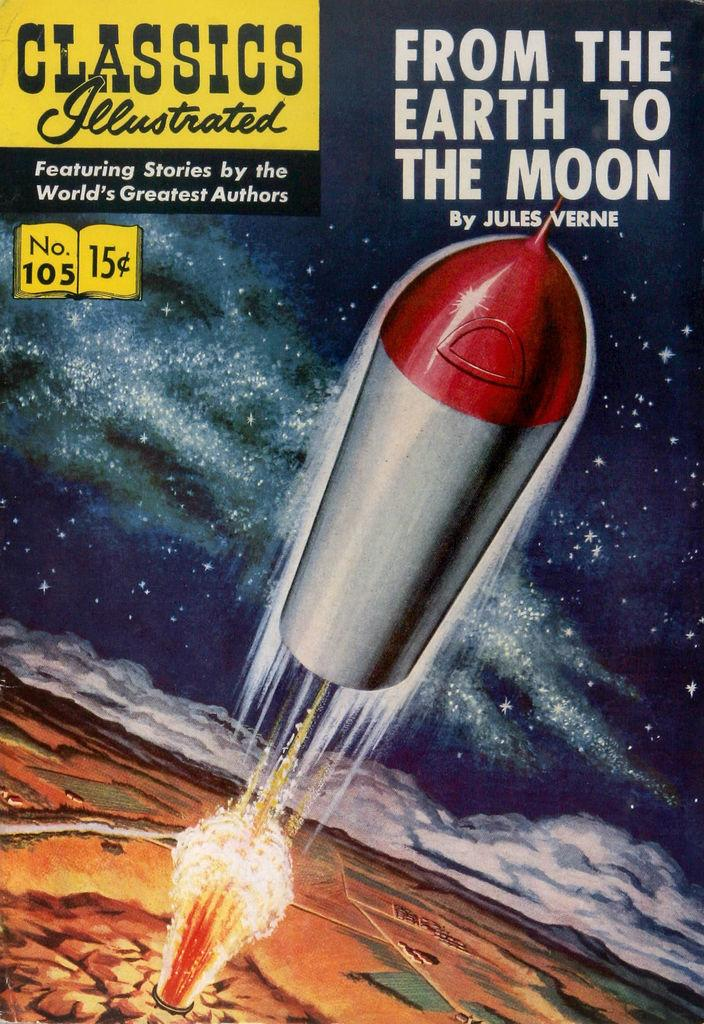Missile: (251, 211, 616, 728)
